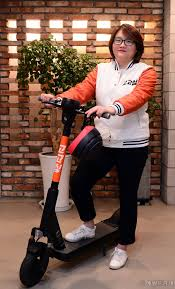kick_wheel: (20, 250, 49, 288)
